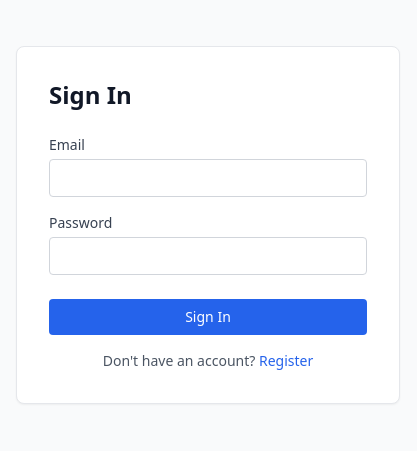
Test: LoginPage › shows error message when API returns 401
The image size is (417, 451).
Type "test@example.com" into the field labelled "Email" at (208,178), box [49, 159, 367, 197]
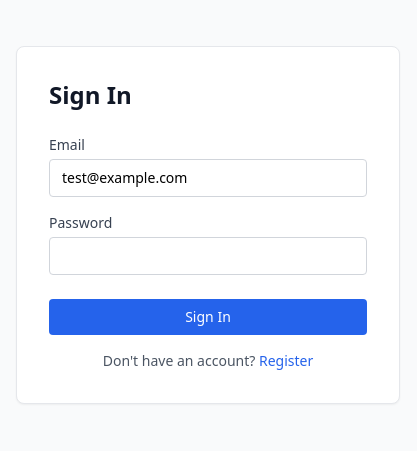
Type "wrongpassword" into the password field labelled "Password" at (208,256), box [49, 237, 367, 275]
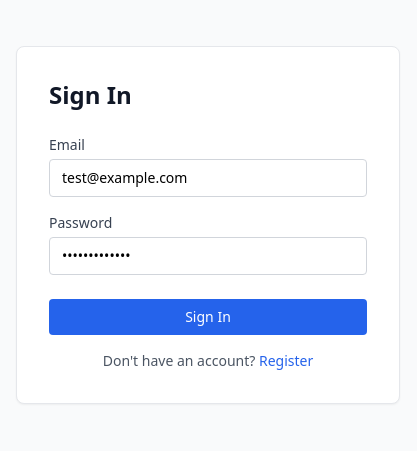
Click the button "Sign In" at (208,317), box [49, 299, 367, 335]
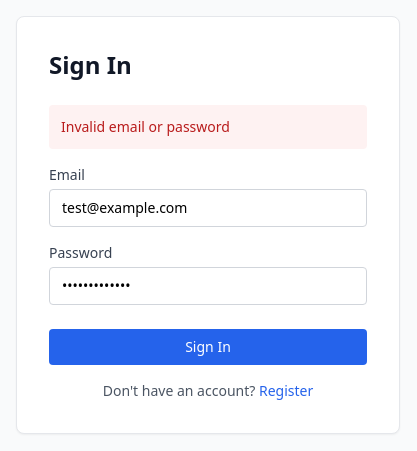
Expected: the text "Invalid email or password" is shown, [49, 105, 367, 149]
